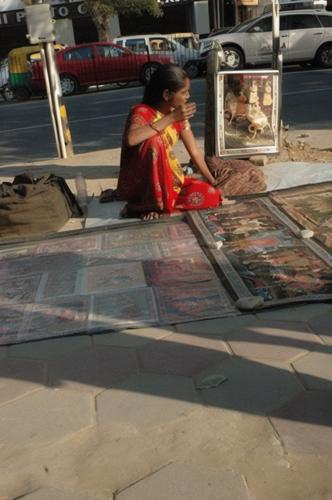car: (31, 39, 179, 100), (107, 33, 210, 88)
cat: (199, 5, 332, 75)
person: (109, 63, 228, 224)
person/foot: (141, 211, 161, 220)
person/hand: (171, 102, 198, 123), (212, 170, 228, 186)
person/head: (147, 66, 191, 111)
